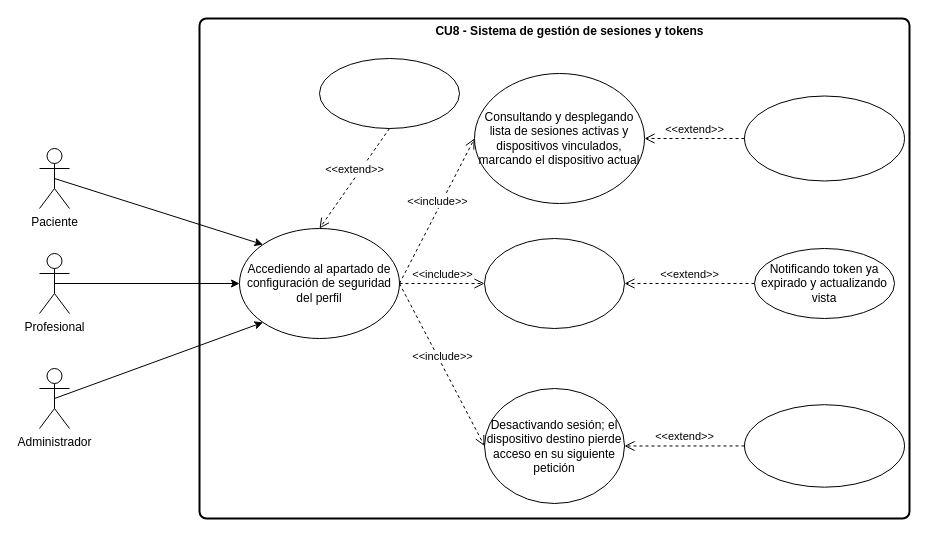
Some shapes in this 927 by 536 pixel diagram are drawn without their labels. Here are the shapes that lost their labels. From the top down, the centre of each, then its label:
the point at 389,93: Notificando error de navegación por fallo de ruteo
the point at 824,138: Advirtiendo indisponibilidad momentánea de información de dispositivos
the point at 554,283: Seleccionando dispositivo y activando opción de revocación remota
the point at 824,445: Notificando falla de persistencia y solicitando reintento
